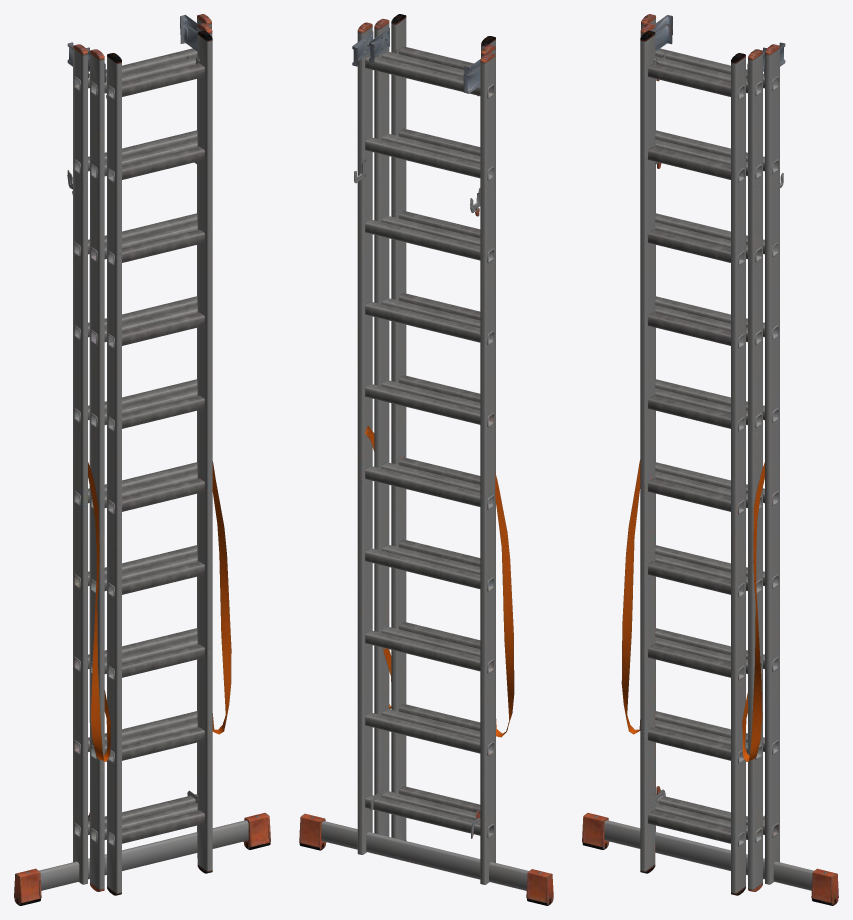
Rendered from ladder_sectioned_01.glb.
3 views of the same model, side by side, from view 1: azimuth 30°, elevation 25°; view 2: azimuth 150°, elevation 25°; view 3: azimuth 330°, elevation 25° (orthographic).
Parts seen in each view (by area): view 1: ladder_section_03, ladder_section_01, ladder_section_02, ladder_ribbon; view 2: ladder_section_01, ladder_section_02, ladder_section_03, ladder_ribbon; view 3: ladder_section_03, ladder_section_01, ladder_section_02, ladder_ribbon.
Part boxes in pixels (bbox=[...]): ladder_section_03: bbox=[106, 31, 212, 895]; ladder_section_01: bbox=[14, 14, 270, 905]; ladder_section_02: bbox=[86, 23, 212, 891]; ladder_ribbon: bbox=[88, 461, 231, 761]; ladder_section_01: bbox=[299, 22, 553, 905]; ladder_section_02: bbox=[369, 19, 495, 862]; ladder_section_03: bbox=[389, 14, 495, 862]; ladder_ribbon: bbox=[364, 425, 514, 737]; ladder_section_03: bbox=[640, 30, 745, 895]; ladder_section_01: bbox=[582, 14, 838, 905]; ladder_section_02: bbox=[640, 23, 766, 891]; ladder_ribbon: bbox=[621, 460, 764, 761].
Bounding box in the file's own units: 0.6615 × 2.13 × 0.1776.
Materials: 1 (1 with a texture image).
